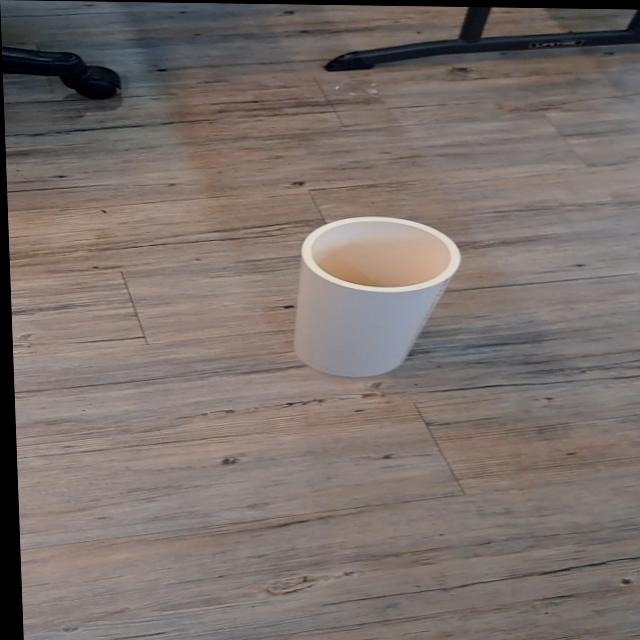CORAL: (281, 211, 468, 385)
